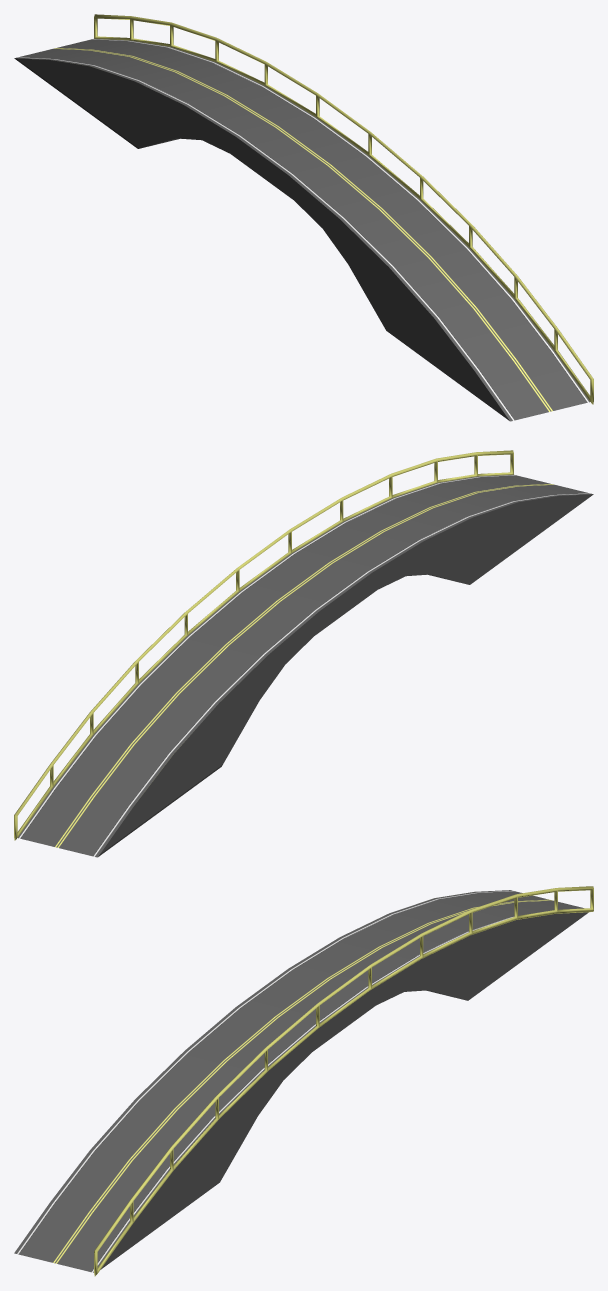
The model's file is ramp.glb.
3 views of the same model, one above another, from view 1: azimuth 30°, elevation 25°; view 2: azimuth 150°, elevation 25°; view 3: azimuth 330°, elevation 25° (orthographic).
Parts seen in each view (by area): view 1: Plane.002, Plane.035; view 2: Plane.002, Plane.035; view 3: Plane.002, Plane.035.
Part boxes in pixels (bbox=[...]): Plane.002: bbox=[14, 38, 589, 421]; Plane.035: bbox=[94, 14, 593, 404]; Plane.002: bbox=[18, 474, 593, 857]; Plane.035: bbox=[14, 450, 513, 840]; Plane.002: bbox=[14, 890, 588, 1272]; Plane.035: bbox=[94, 886, 593, 1276].
Size of the model in its own units: 15.33 by 19.33 by 158.
Materials: 1 (1 with a texture image).
